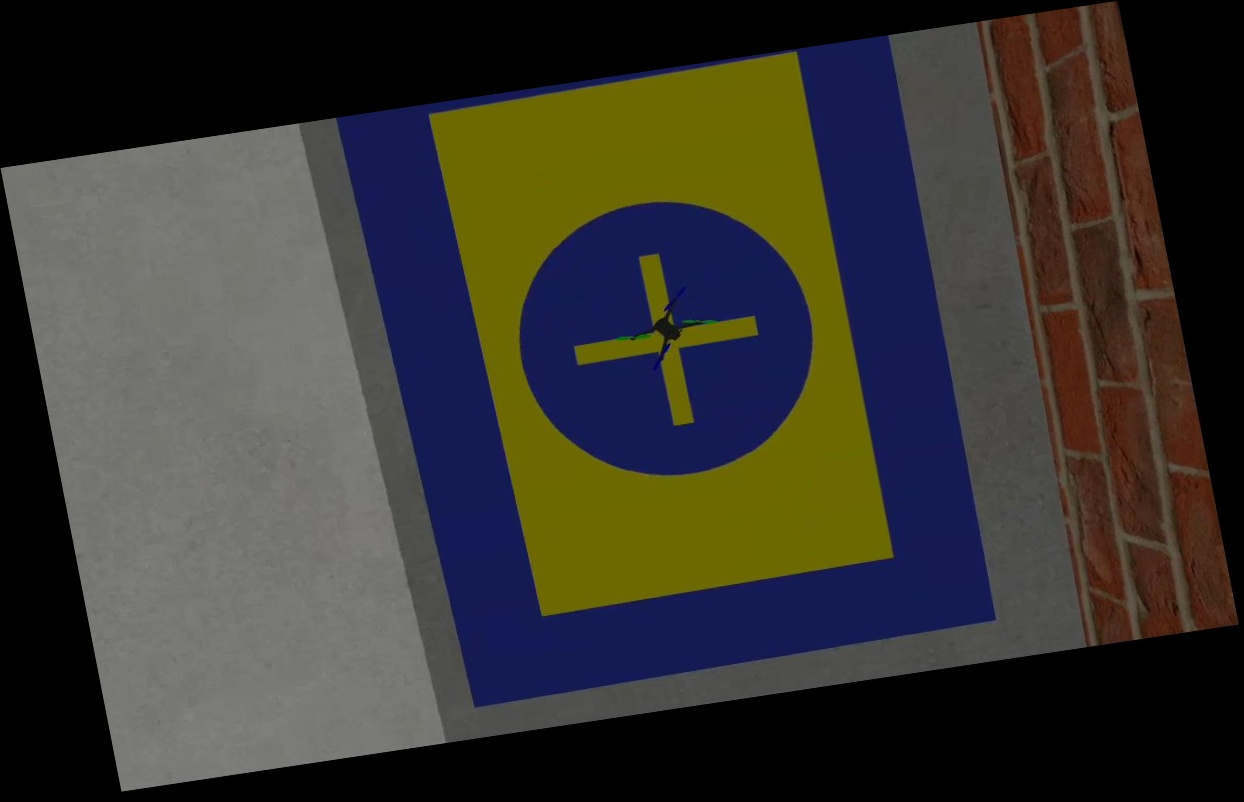large_base: (335, 35, 1004, 713)
